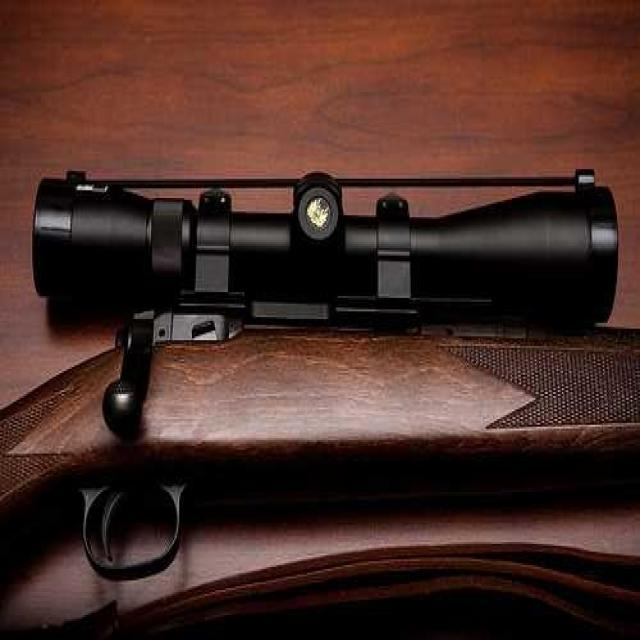weapon: (0, 154, 623, 594)
